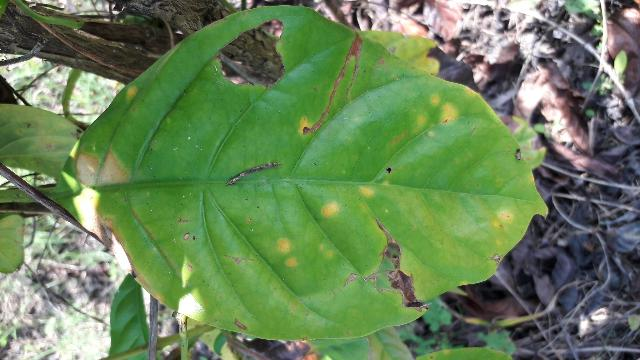rust_level_2: (53, 5, 548, 339)
